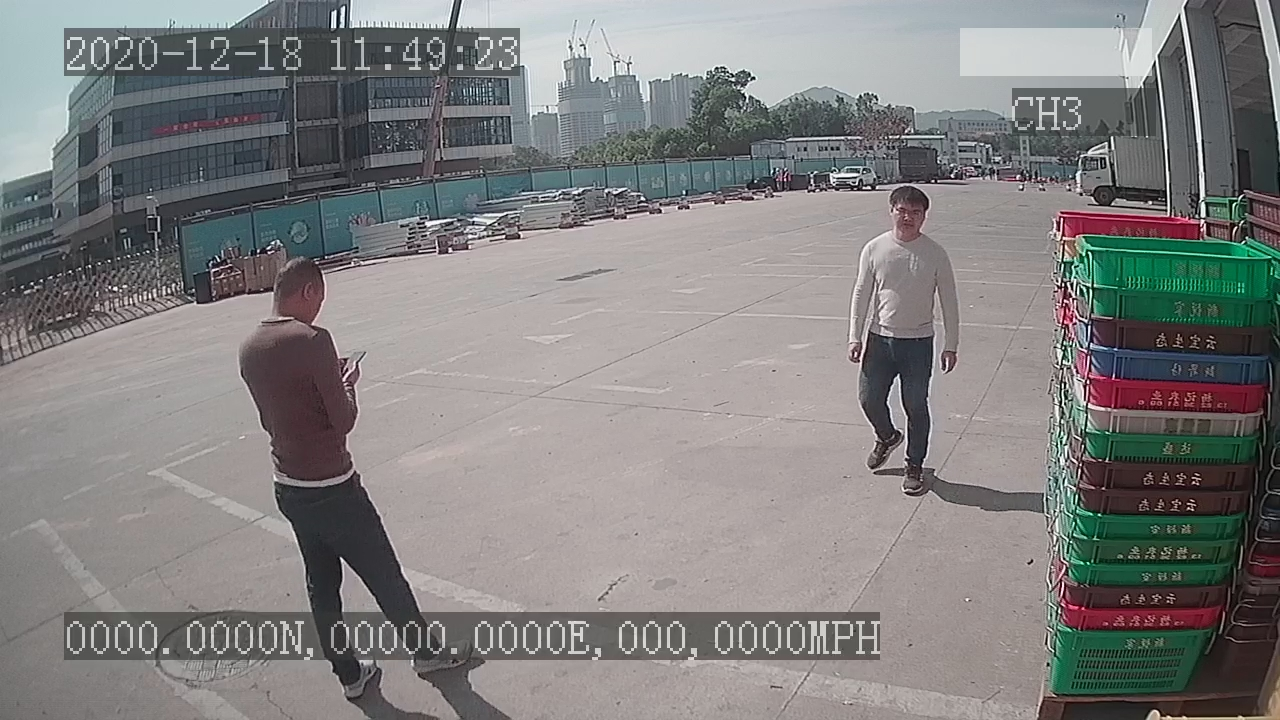person: (842, 183, 965, 501)
